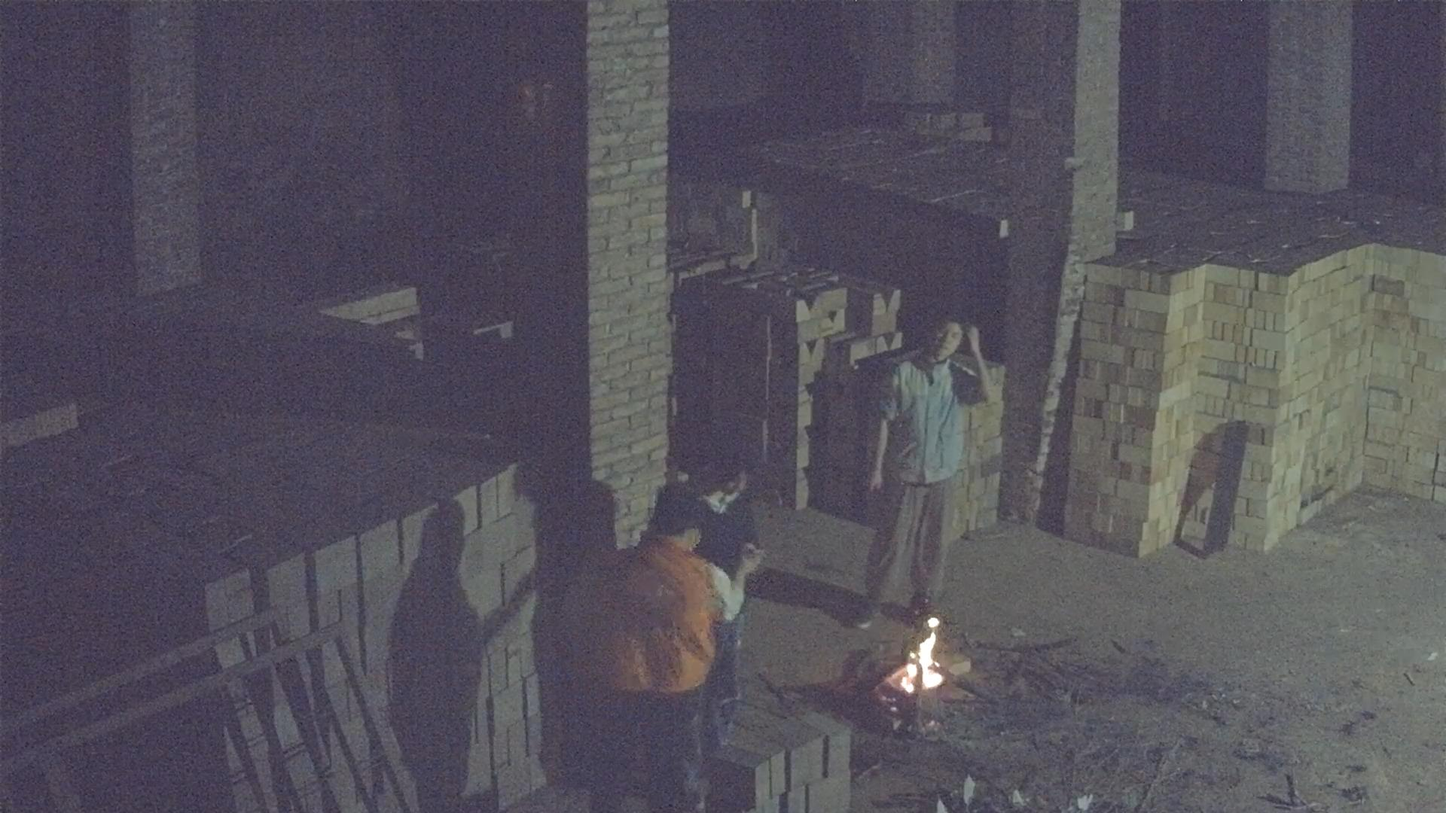fire: (882, 617, 944, 701)
